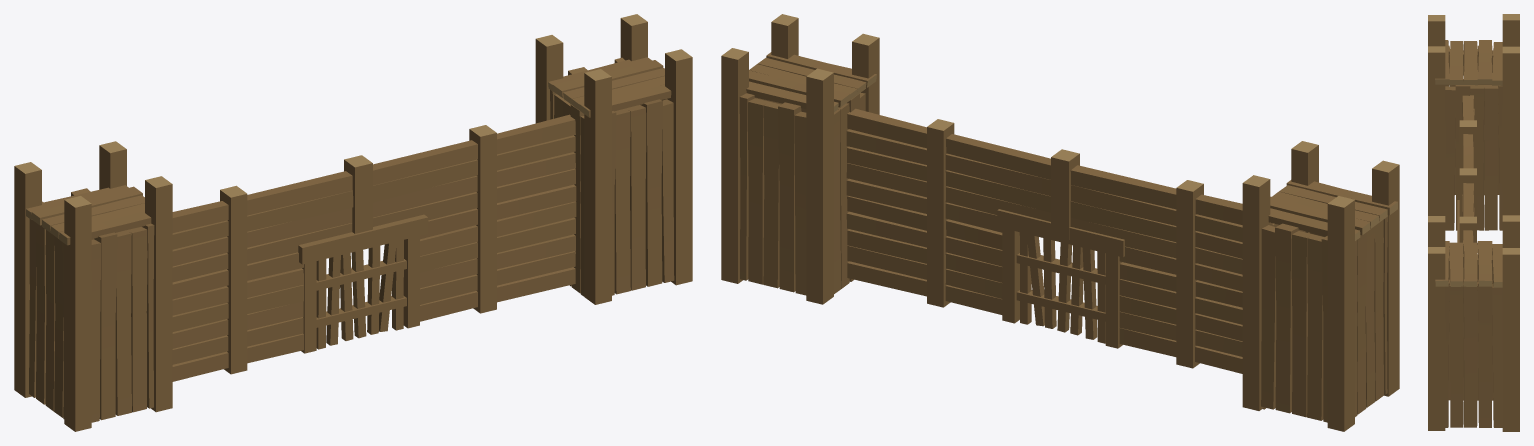
Rendered from Wooden Fortress Gate.glb.
The picture shows the model from 3 angles, left to right: view 1: azimuth 30°, elevation 25°; view 2: azimuth 150°, elevation 25°; view 3: azimuth 270°, elevation 25°; orthographic projection. The views are drawn at different scales.
Parts seen in each view (by area): view 1: WallTowers_DoorClosed_FirstAge; view 2: WallTowers_DoorClosed_FirstAge; view 3: WallTowers_DoorClosed_FirstAge.
Part boxes in pixels (x1,y1,x2,y2): WallTowers_DoorClosed_FirstAge: (14,14,692,431); WallTowers_DoorClosed_FirstAge: (721,14,1399,431); WallTowers_DoorClosed_FirstAge: (1428,14,1519,431).
Size of the model in its own units: 1.94 by 0.6725 by 0.3135.
